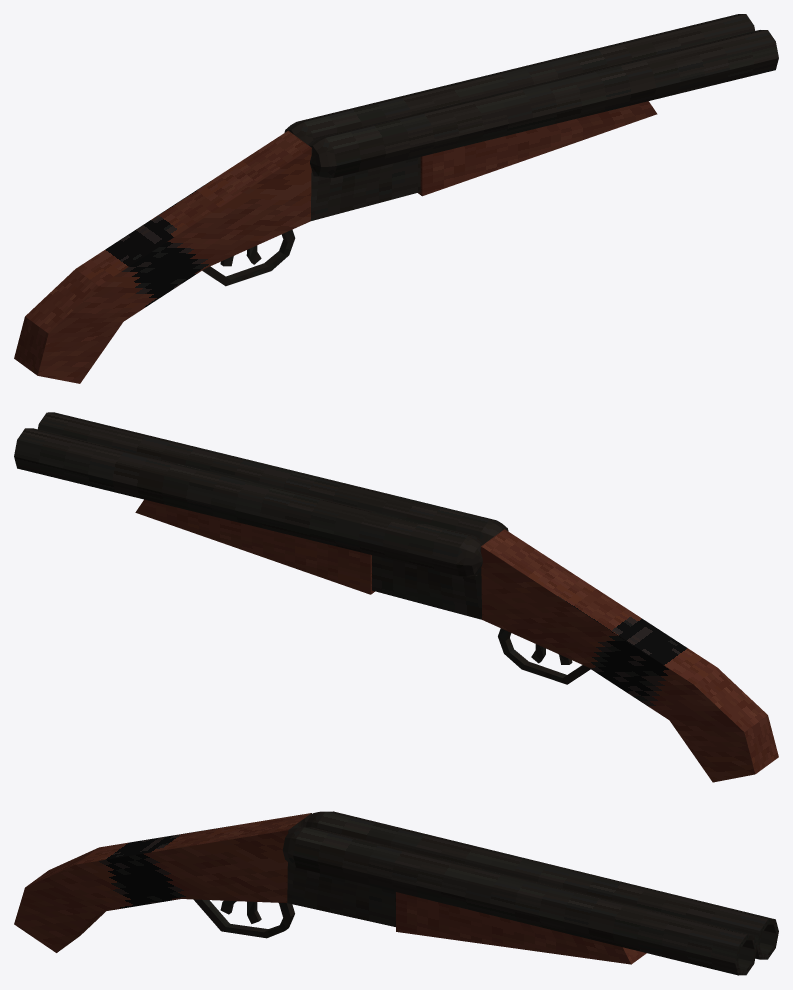
The model's file is Lupara.glb.
The picture shows the model from 3 angles, top to bottom: view 1: azimuth 30°, elevation 25°; view 2: azimuth 150°, elevation 25°; view 3: azimuth 330°, elevation 25°; orthographic projection.
Parts seen in each view (by area): view 1: Cube.015, Cube.017, Cube.016, Cube.014, Cube.013, Cube.010; view 2: Cube.015, Cube.016, Cube.017, Cube.014, Cube.013, Cube.009; view 3: Cube.015, Cube.017, Cube.016, Cube.014, Cube.013, Cube.010.
Part boxes in pixels (bbox=[...]): Cube.015: bbox=[14, 130, 420, 383]; Cube.017: bbox=[319, 30, 778, 177]; Cube.016: bbox=[297, 14, 755, 139]; Cube.014: bbox=[418, 101, 657, 196]; Cube.013: bbox=[202, 229, 295, 286]; Cube.010: bbox=[308, 137, 336, 177]; Cube.015: bbox=[372, 529, 778, 782]; Cube.016: bbox=[14, 428, 473, 576]; Cube.017: bbox=[38, 412, 495, 538]; Cube.014: bbox=[135, 499, 374, 594]; Cube.013: bbox=[498, 628, 590, 684]; Cube.009: bbox=[456, 536, 484, 576]; Cube.015: bbox=[14, 813, 395, 952]; Cube.017: bbox=[293, 827, 757, 975]; Cube.016: bbox=[317, 811, 778, 959]; Cube.014: bbox=[396, 892, 646, 964]; Cube.013: bbox=[193, 899, 294, 938]; Cube.010: bbox=[282, 827, 303, 867].
Bounding box in the file's own units: 15.51 × 3.76 × 1.61.
Materials: 3 (3 with a texture image).
